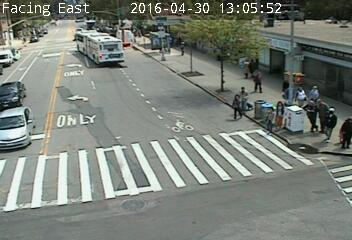neg: (67, 38, 81, 58), (129, 40, 141, 56), (117, 29, 127, 43), (94, 45, 104, 58)
pos: (260, 107, 280, 135), (227, 91, 246, 117), (251, 69, 269, 94)
